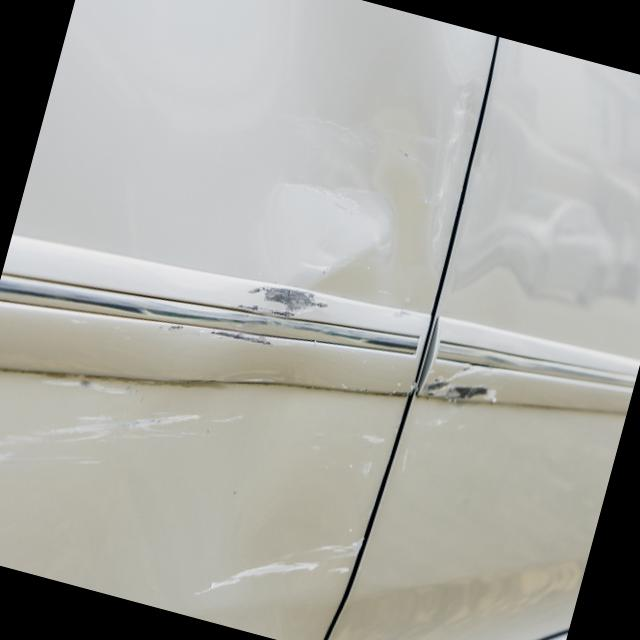Cabossage: (262, 133, 438, 312)
Rayure: (411, 358, 522, 428), (236, 272, 330, 325)
